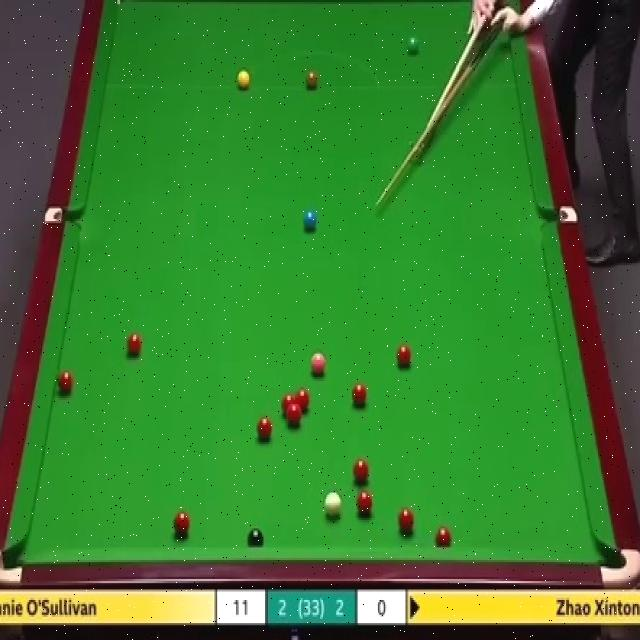black-ball: (247, 528, 266, 549)
blue-ball: (302, 210, 319, 232)
brown-ball: (305, 67, 318, 88)
green-ball: (404, 34, 419, 57)
pink-ball: (310, 352, 327, 378)
red-ball: (397, 505, 418, 533), (172, 509, 190, 538), (348, 380, 367, 407), (396, 342, 413, 370), (125, 332, 142, 360), (356, 492, 374, 518), (434, 524, 452, 548), (352, 458, 369, 483), (58, 370, 74, 396), (257, 417, 273, 442), (281, 394, 296, 419), (296, 389, 310, 414), (287, 407, 303, 428)
white-ball: (323, 491, 343, 519)
yellow-ball: (236, 70, 251, 90)
